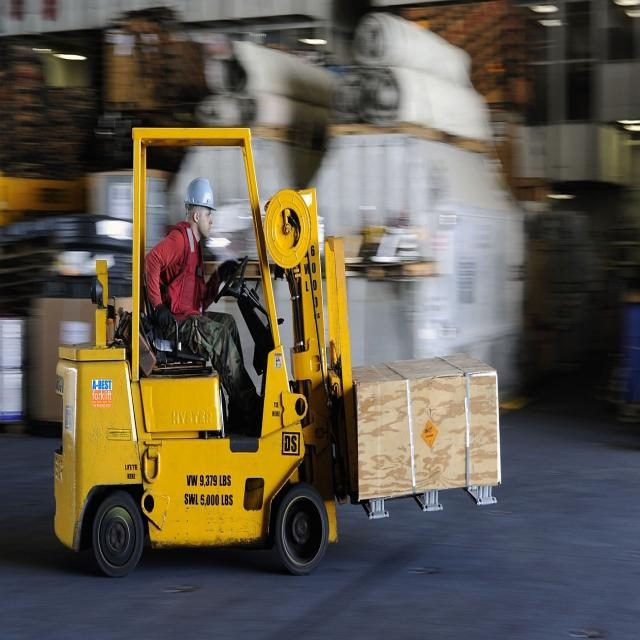Person: (145, 177, 244, 422)
